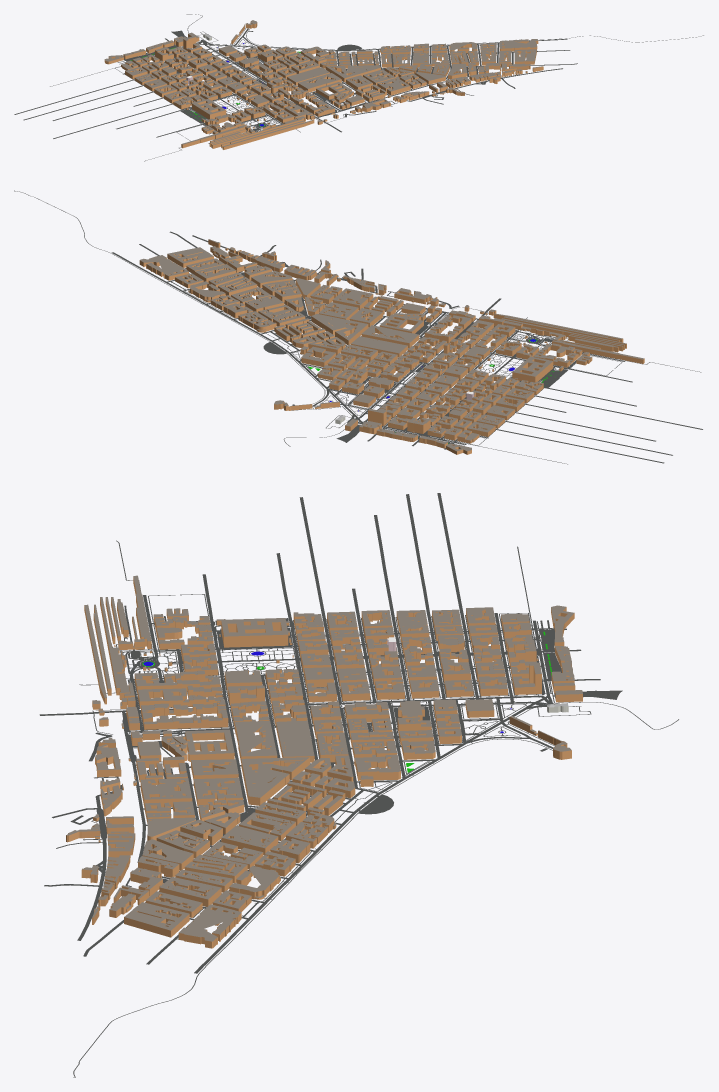
File: mappaBozza.fbx
3 renders of one model, top to bottom at view 1: azimuth 30°, elevation 25°; view 2: azimuth 150°, elevation 25°; view 3: azimuth 270°, elevation 25°, orthographic. The views are drawn at different scales.
Visible parts, largest first — view 1: map_5.osm_buildings, map_5.osm_roads_residential, map_5.osm_paths_footway, map_5.osm_roads_secondary, map_5.osm_areas_pedestrian; view 2: map_5.osm_buildings, map_5.osm_roads_residential, map_5.osm_paths_footway, map_5.osm_roads_secondary, map_5.osm_areas_pedestrian, map_5.osm_roads_tertiary; view 3: map_5.osm_buildings, map_5.osm_roads_residential, map_5.osm_paths_footway, map_5.osm_roads_secondary, map_5.osm_areas_pedestrian, map_5.osm_roads_tertiary, map_5.osm_roads_service.
Boxes of the visible parts, left/top/right/bottom form: map_5.osm_buildings: left=104, top=20, right=543, bottom=149; map_5.osm_roads_residential: left=14, top=28, right=577, bottom=137; map_5.osm_paths_footway: left=115, top=14, right=703, bottom=161; map_5.osm_roads_secondary: left=198, top=39, right=567, bottom=132; map_5.osm_areas_pedestrian: left=126, top=30, right=478, bottom=126; map_5.osm_buildings: left=139, top=239, right=644, bottom=454; map_5.osm_roads_residential: left=139, top=231, right=672, bottom=463; map_5.osm_paths_footway: left=14, top=190, right=701, bottom=446; map_5.osm_roads_secondary: left=111, top=235, right=501, bottom=423; map_5.osm_areas_pedestrian: left=240, top=272, right=567, bottom=444; map_5.osm_roads_tertiary: left=358, top=323, right=702, bottom=444; map_5.osm_buildings: left=66, top=575, right=582, bottom=948; map_5.osm_roads_residential: left=44, top=493, right=600, bottom=964; map_5.osm_paths_footway: left=73, top=540, right=678, bottom=1077; map_5.osm_roads_secondary: left=39, top=695, right=554, bottom=973; map_5.osm_areas_pedestrian: left=132, top=618, right=622, bottom=882; map_5.osm_roads_tertiary: left=171, top=497, right=552, bottom=732; map_5.osm_roads_service: left=56, top=605, right=549, bottom=917.
Size of the model in its own units: 295063 by 4800 by 136395.
